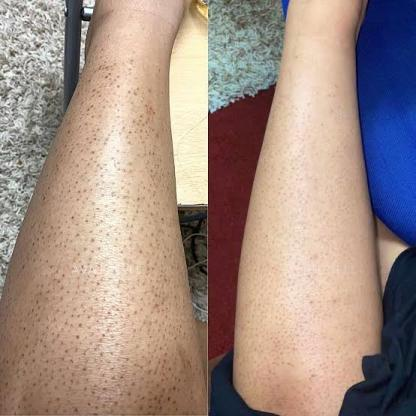Chicken Skin: (38, 189, 172, 400), (76, 84, 169, 225)
